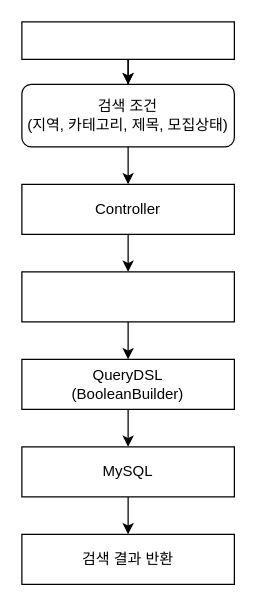
Some shapes in this 256 by 606 pixel diagram are drawn without their labels. The shapes that lost their labels are listed below. From the top down, each one's centre as x and y in pixels, then its label:
[127,40]: Client
[127,296]: Service
